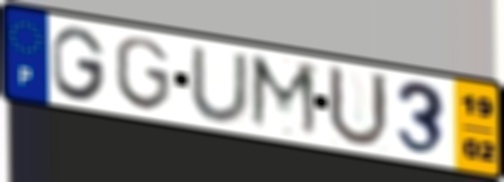3: (393, 78, 452, 160)
G: (112, 34, 175, 114), (49, 24, 109, 103)
M: (247, 51, 324, 143)
U: (325, 61, 393, 151), (187, 44, 253, 127)
